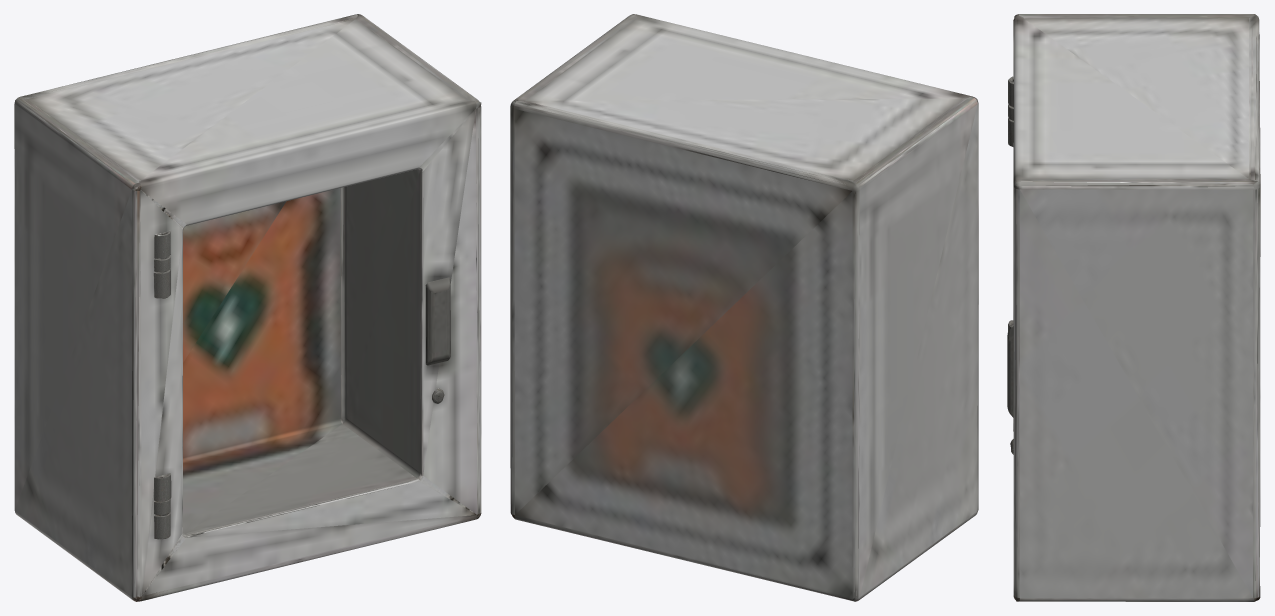
Rendered from p7-aed-wall-cabinet-t25.glb.
3 renders of one model, left to right at view 1: azimuth 30°, elevation 25°; view 2: azimuth 150°, elevation 25°; view 3: azimuth 270°, elevation 25°, orthographic.
Visible parts, largest first — view 1: p7-aed-wall-cabinet-t25; view 2: p7-aed-wall-cabinet-t25; view 3: p7-aed-wall-cabinet-t25.
Part boxes in pixels (bbox=[...]): p7-aed-wall-cabinet-t25: bbox=[14, 14, 481, 601]; p7-aed-wall-cabinet-t25: bbox=[510, 14, 978, 601]; p7-aed-wall-cabinet-t25: bbox=[1007, 14, 1260, 601].
Size of the model in its own units: 0.42 by 0.48 by 0.262.
1 material, 1 textured.
